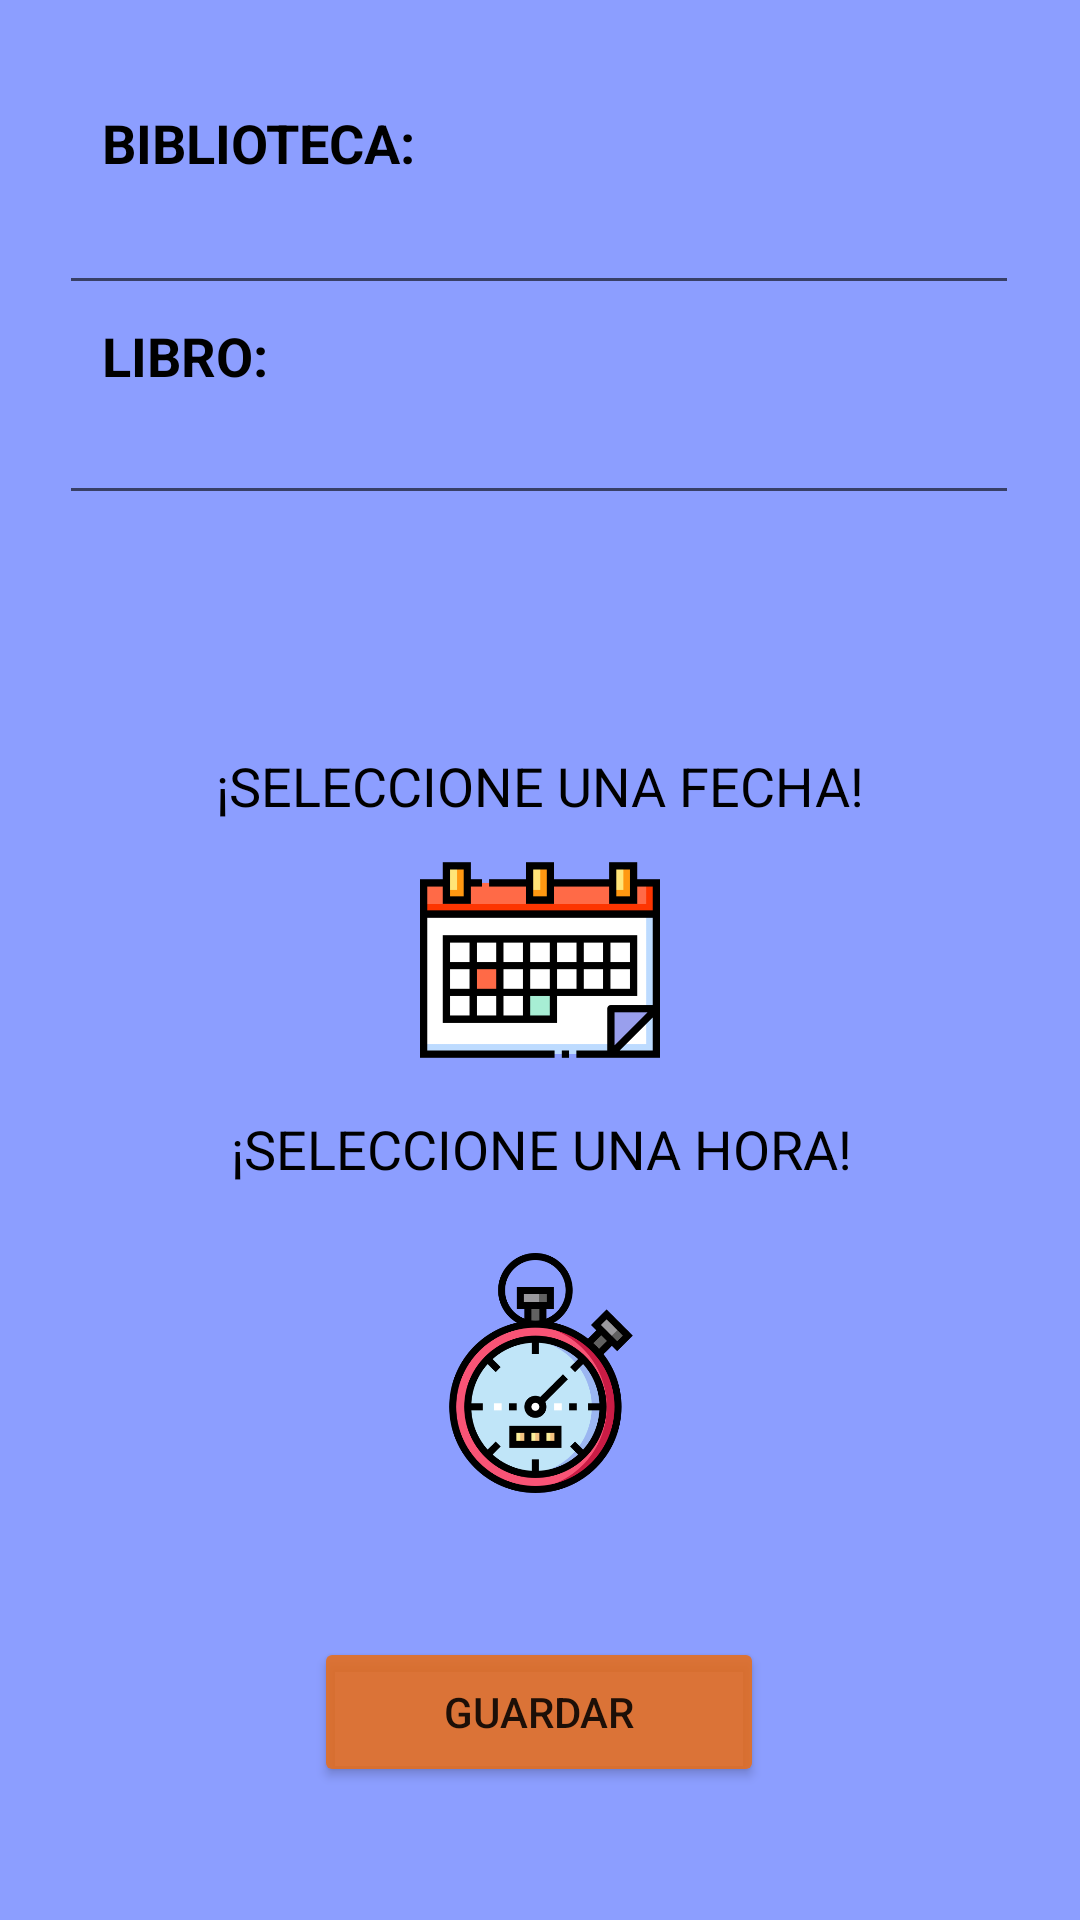

Icon bounding boxes for this 1080px×1920px phone screenshot, format region(x1, y1, x2, y2):
calendario: region(420, 862, 660, 1058)
cronografo: region(449, 1253, 633, 1493)
